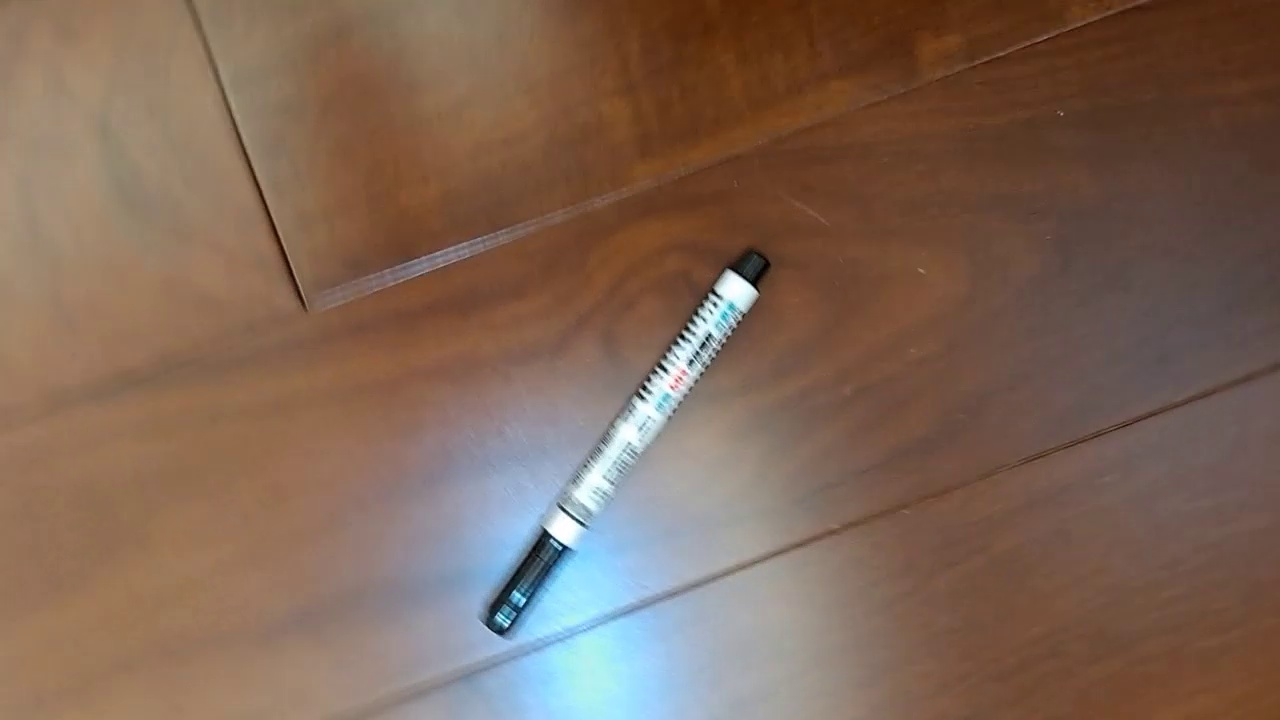pen: (479, 245, 773, 640)
